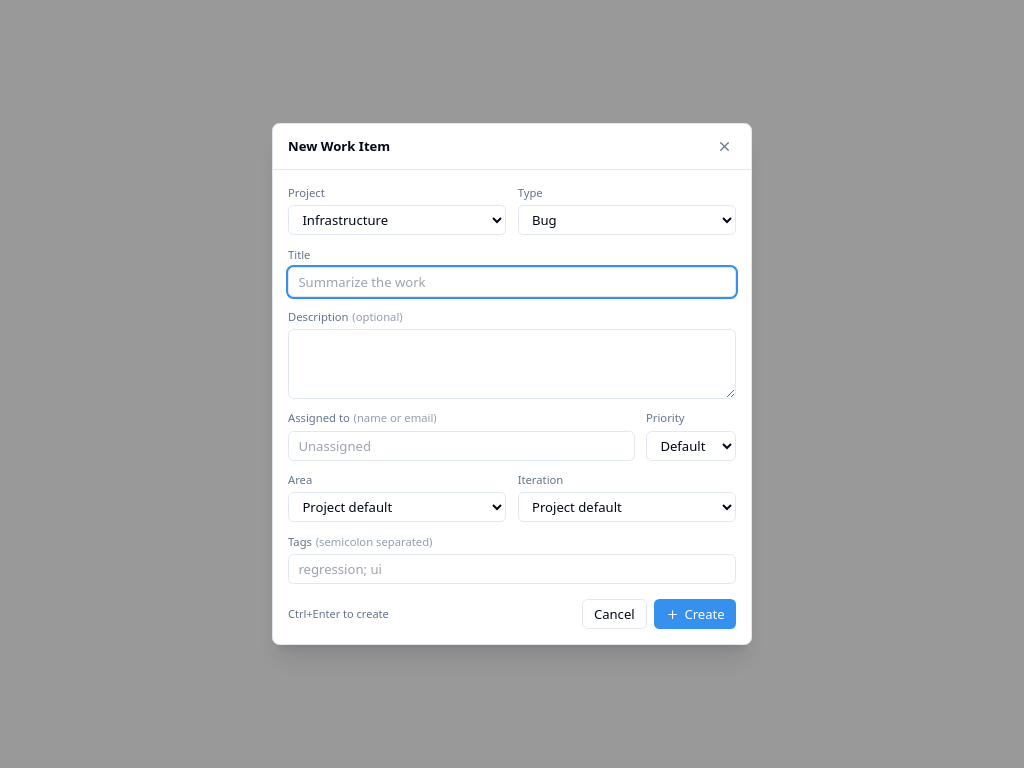
Test: CreateWorkItemDialog › requires a title before creating
Click the button "Create".
click(695, 614)  # box [654,599,736,629]
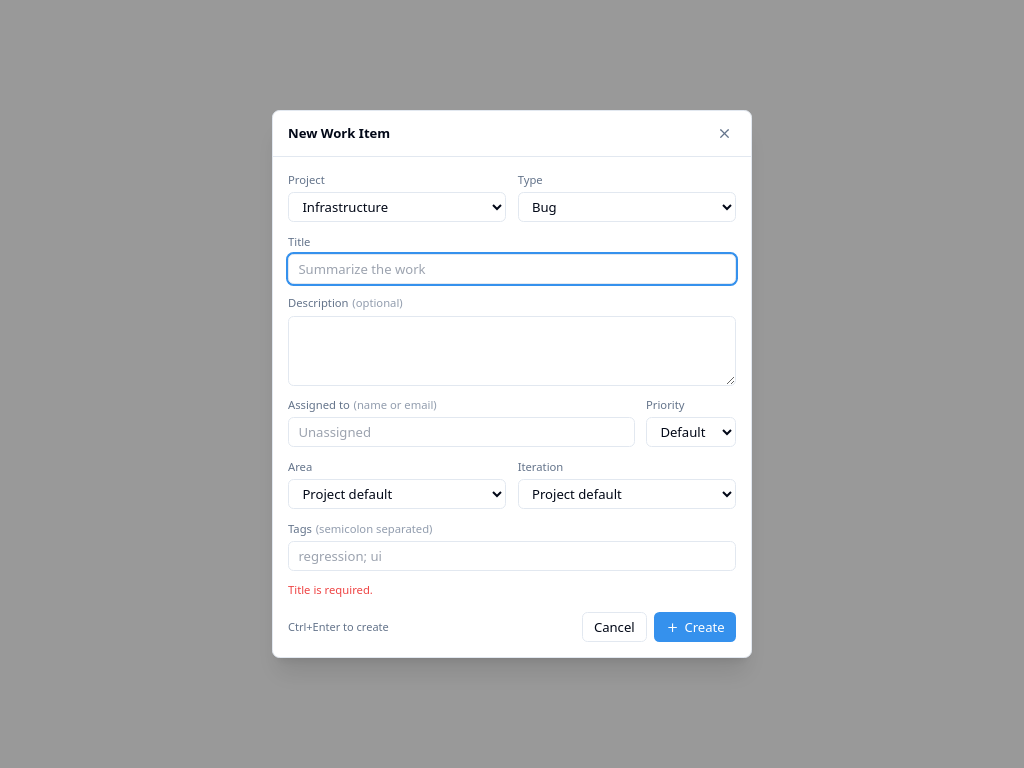
Check: the message reads "Title is required.", box [288,582,373,597]
